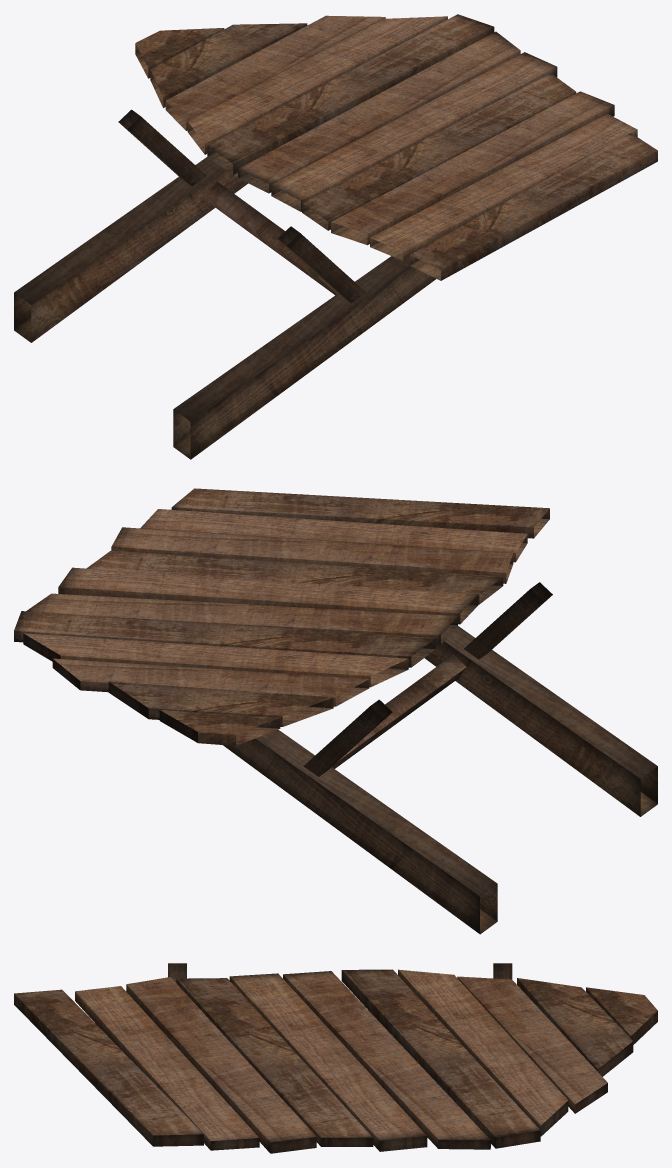
The model's file is SM_O_OutPlatform.fbx.
3 renders of one model, top to bottom at view 1: azimuth 30°, elevation 25°; view 2: azimuth 150°, elevation 25°; view 3: azimuth 270°, elevation 25°, orthographic. The views are drawn at different scales.
Visible parts, largest first — view 1: polySurface19; view 2: polySurface19; view 3: polySurface19.
Part boxes in pixels (x1=…): polySurface19: x1=14, y1=14, x2=657, y2=459; polySurface19: x1=14, y1=488, x2=657, y2=934; polySurface19: x1=14, y1=963, x2=657, y2=1153.
Size of the model in its own units: 185 by 73.51 by 212.
